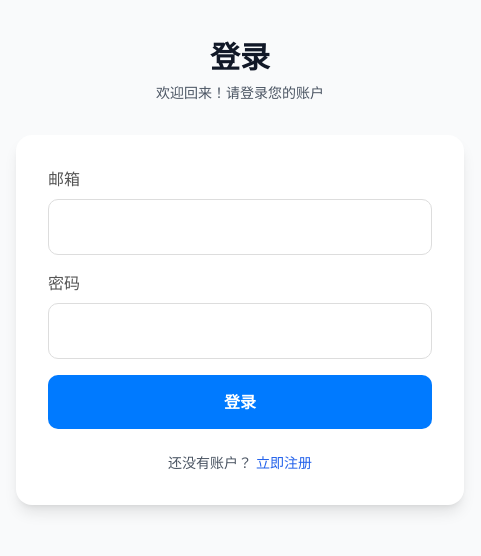
Test: LoginPage › Form Validation › should integrate with LoginForm validation
Click the button "登录" at point(240, 402), box [48,375,432,429]
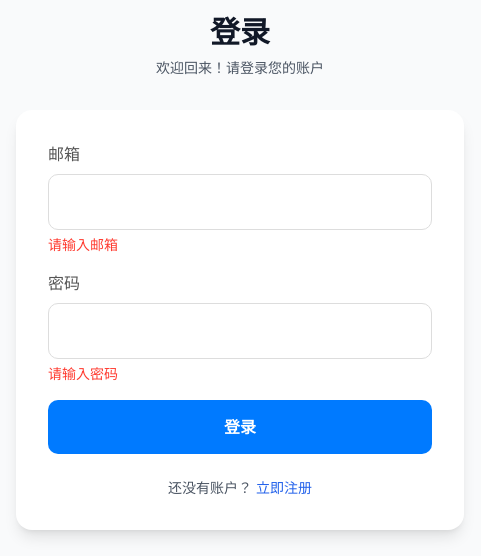
Expected: the text "请输入邮箱" is shown, [48,236,118,253]
